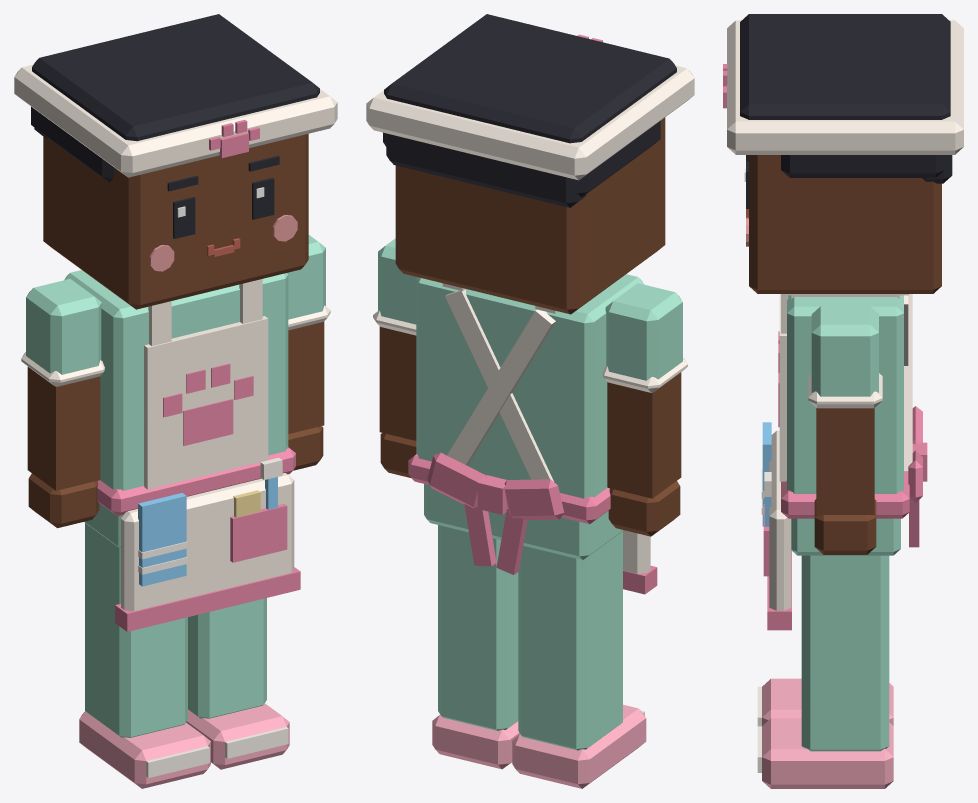
Rendered from CleanACat_NPC_Staff_Sam.fbx.
3 views of the same model, side by side, from view 1: azimuth 30°, elevation 25°; view 2: azimuth 150°, elevation 25°; view 3: azimuth 270°, elevation 25° (orthographic). The views are drawn at different scales.
Visible parts, largest first — view 1: CleanACat_NPC_Staff_Sam_Head, CleanACat_NPC_Staff_Sam_Body, CleanACat_NPC_Staff_Sam_LegR, CleanACat_NPC_Staff_Sam_ArmR, CleanACat_NPC_Staff_Sam_LegL, CleanACat_NPC_Staff_Sam_ArmL; view 2: CleanACat_NPC_Staff_Sam_Head, CleanACat_NPC_Staff_Sam_Body, CleanACat_NPC_Staff_Sam_LegR, CleanACat_NPC_Staff_Sam_ArmR, CleanACat_NPC_Staff_Sam_LegL, CleanACat_NPC_Staff_Sam_ArmL; view 3: CleanACat_NPC_Staff_Sam_Head, CleanACat_NPC_Staff_Sam_Body, CleanACat_NPC_Staff_Sam_LegL, CleanACat_NPC_Staff_Sam_ArmL, CleanACat_NPC_Staff_Sam_LegR.
Boxes of the visible parts, left/top/right/bottom form: CleanACat_NPC_Staff_Sam_Head: left=14, top=14, right=337, bottom=309; CleanACat_NPC_Staff_Sam_Body: left=64, top=270, right=300, bottom=631; CleanACat_NPC_Staff_Sam_LegR: left=79, top=523, right=210, bottom=788; CleanACat_NPC_Staff_Sam_ArmR: left=21, top=279, right=104, bottom=528; CleanACat_NPC_Staff_Sam_LegL: left=186, top=598, right=289, bottom=769; CleanACat_NPC_Staff_Sam_ArmL: left=287, top=235, right=330, bottom=470; CleanACat_NPC_Staff_Sam_Head: left=366, top=14, right=694, bottom=314; CleanACat_NPC_Staff_Sam_Body: left=408, top=274, right=657, bottom=594; CleanACat_NPC_Staff_Sam_LegR: left=512, top=531, right=646, bottom=788; CleanACat_NPC_Staff_Sam_ArmR: left=602, top=283, right=687, bottom=536; CleanACat_NPC_Staff_Sam_LegL: left=432, top=525, right=519, bottom=769; CleanACat_NPC_Staff_Sam_ArmL: left=373, top=238, right=417, bottom=478; CleanACat_NPC_Staff_Sam_Head: left=723, top=14, right=963, bottom=293; CleanACat_NPC_Staff_Sam_Body: left=761, top=294, right=927, bottom=630; CleanACat_NPC_Staff_Sam_LegL: left=757, top=555, right=893, bottom=788; CleanACat_NPC_Staff_Sam_ArmL: left=808, top=306, right=882, bottom=554; CleanACat_NPC_Staff_Sam_LegR: left=757, top=678, right=893, bottom=726.
Size of the model in its own units: 2.29 by 5.24 by 1.65.
1 material, 1 textured.
